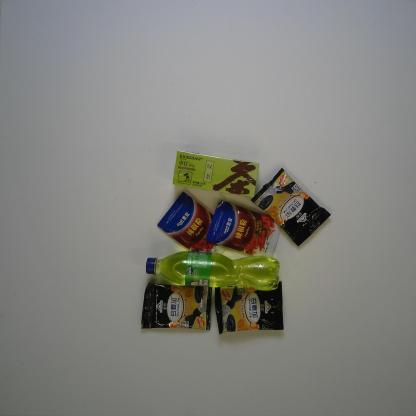Drink: (145, 250, 280, 292)
Instant Drink: (250, 166, 332, 249), (171, 149, 260, 198), (214, 280, 285, 335), (140, 282, 213, 332)
Seasoner: (204, 198, 282, 258), (156, 190, 228, 255)
